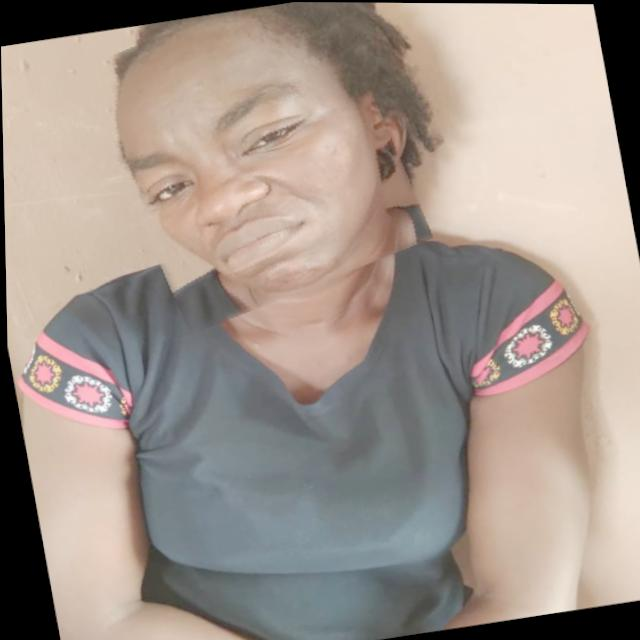sad: (84, 0, 427, 330)
